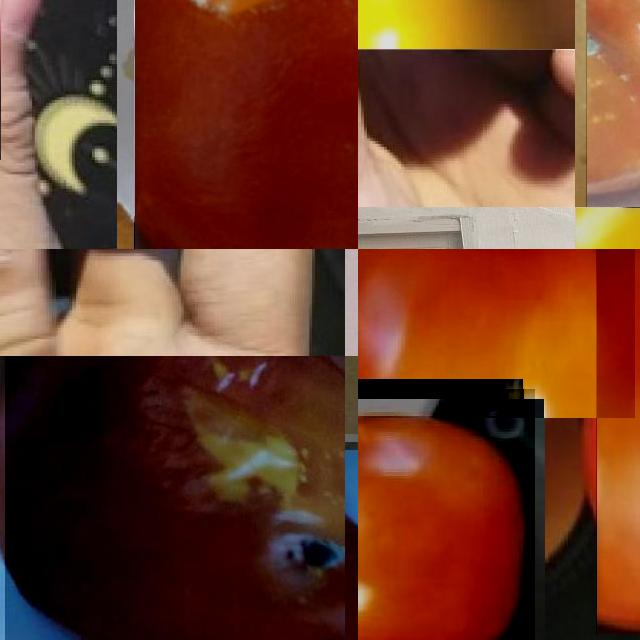0: (358, 249, 634, 418), (358, 389, 534, 640)
Fresh Tomato: (358, 0, 575, 49)
Rotten Tomato: (134, 0, 358, 249)
